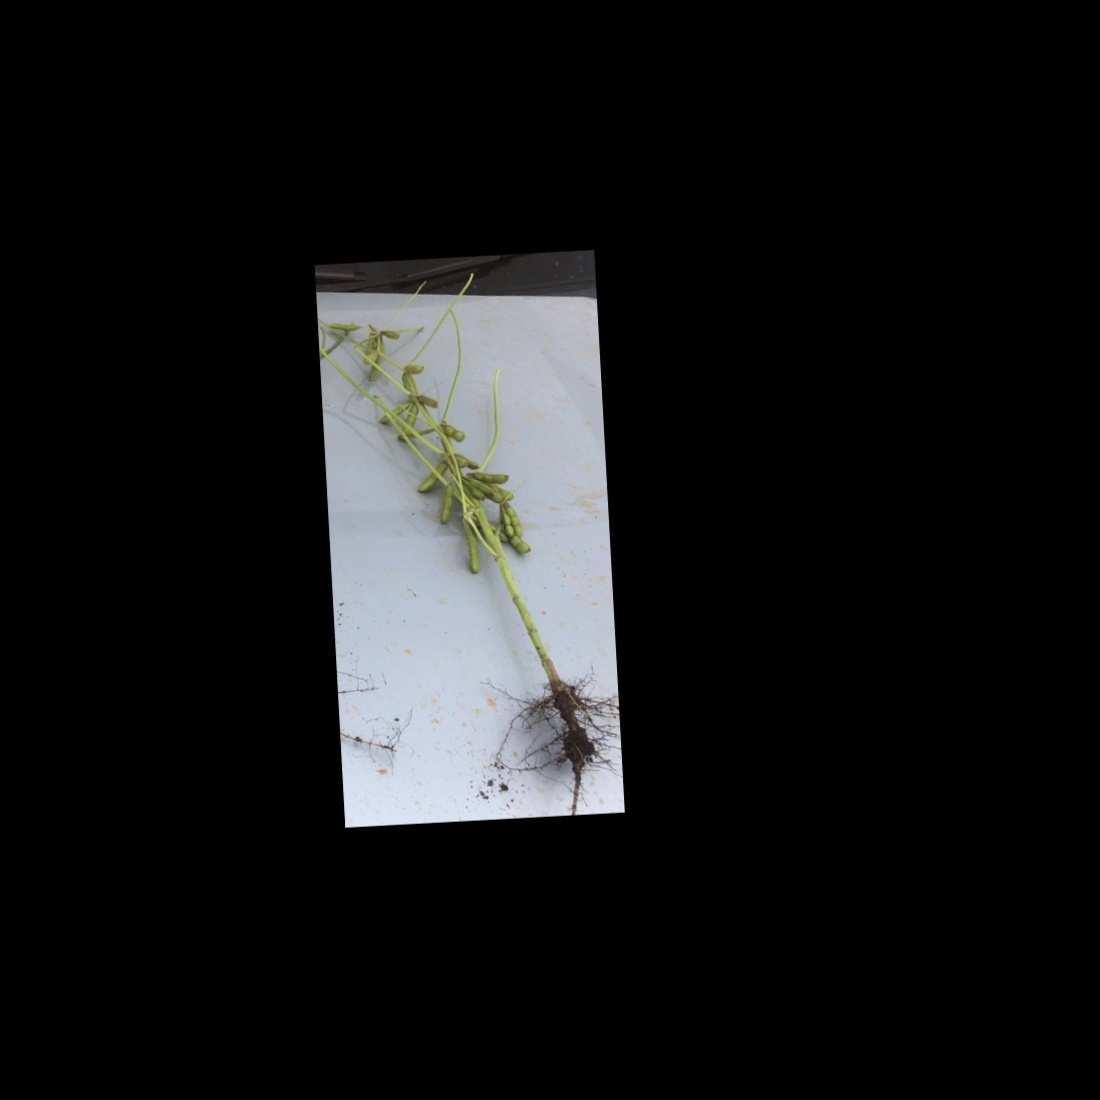pod: (411, 456, 450, 497), (459, 520, 480, 579), (436, 479, 461, 528), (375, 398, 413, 425), (465, 465, 510, 486), (439, 419, 471, 446), (322, 317, 364, 337), (412, 391, 441, 410), (402, 362, 429, 376)
soy: (321, 285, 610, 803)
